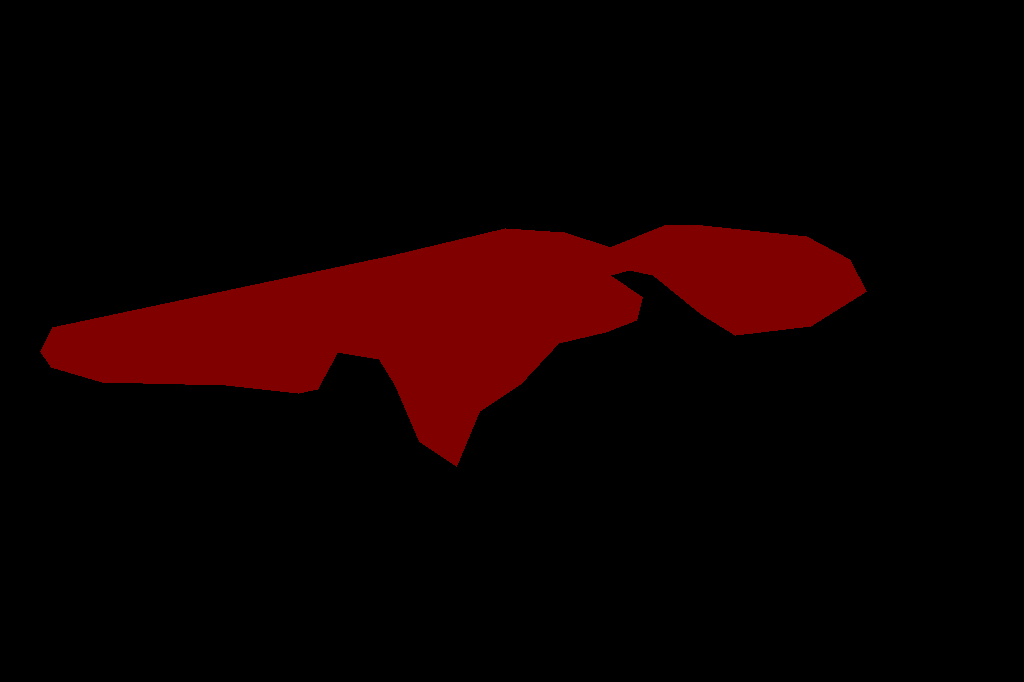fire: (40, 225, 866, 466)
